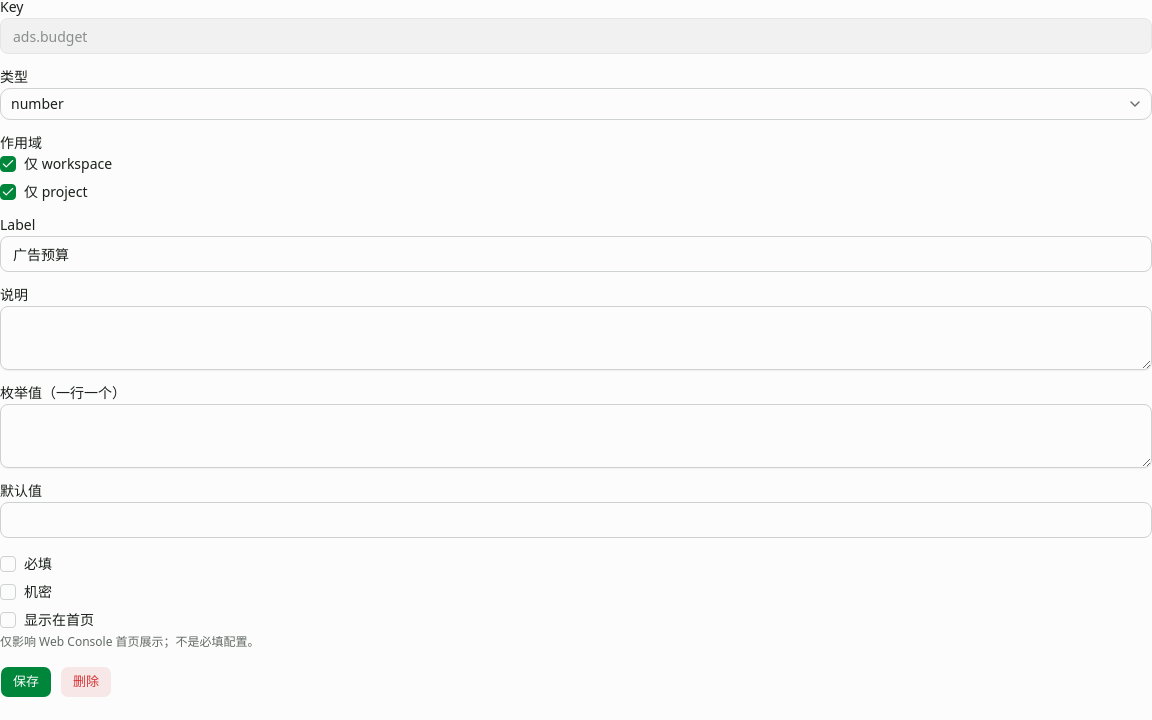
Scenario: ConfigDefinitionForm › opens destructive delete dialog and requires key confirmation
Click the button "删除" at (86, 682), box [60,666,112,698]
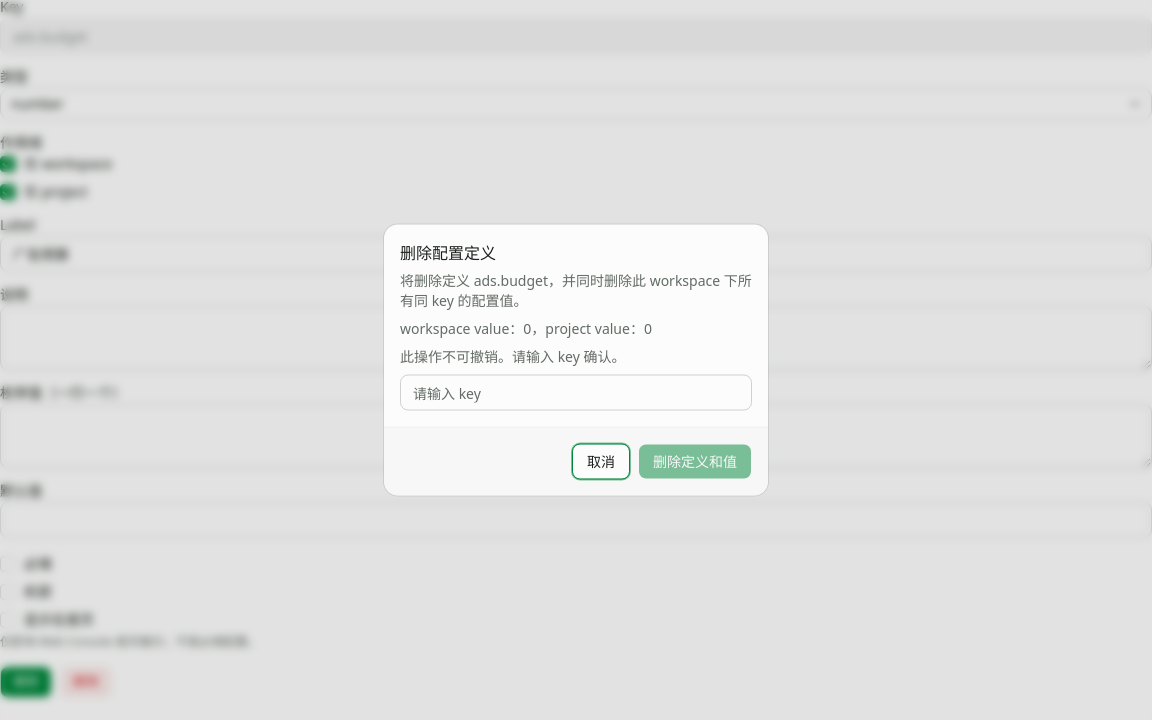
Expected: the heading "删除配置定义" is shown, [400,240,496,264]
Expected: the button "删除定义和值" is disabled, [638,444,752,480]
Type "ads.budget" into the field with placeholder "请输入 key" at (576, 392), box [400,374,752,410]
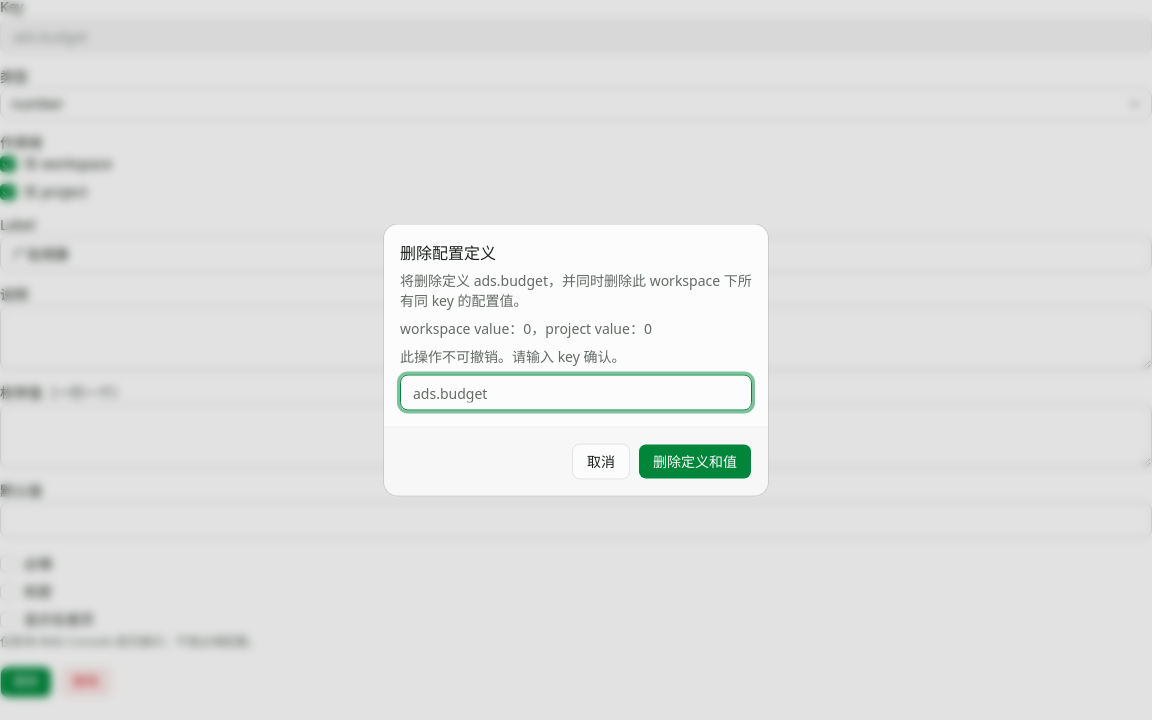
Expected: the button "删除定义和值" is enabled, [638,444,752,480]
